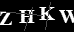H: (19, 9, 34, 23)
K: (38, 6, 56, 21)
W: (58, 9, 74, 24)
Z: (1, 10, 12, 26)
